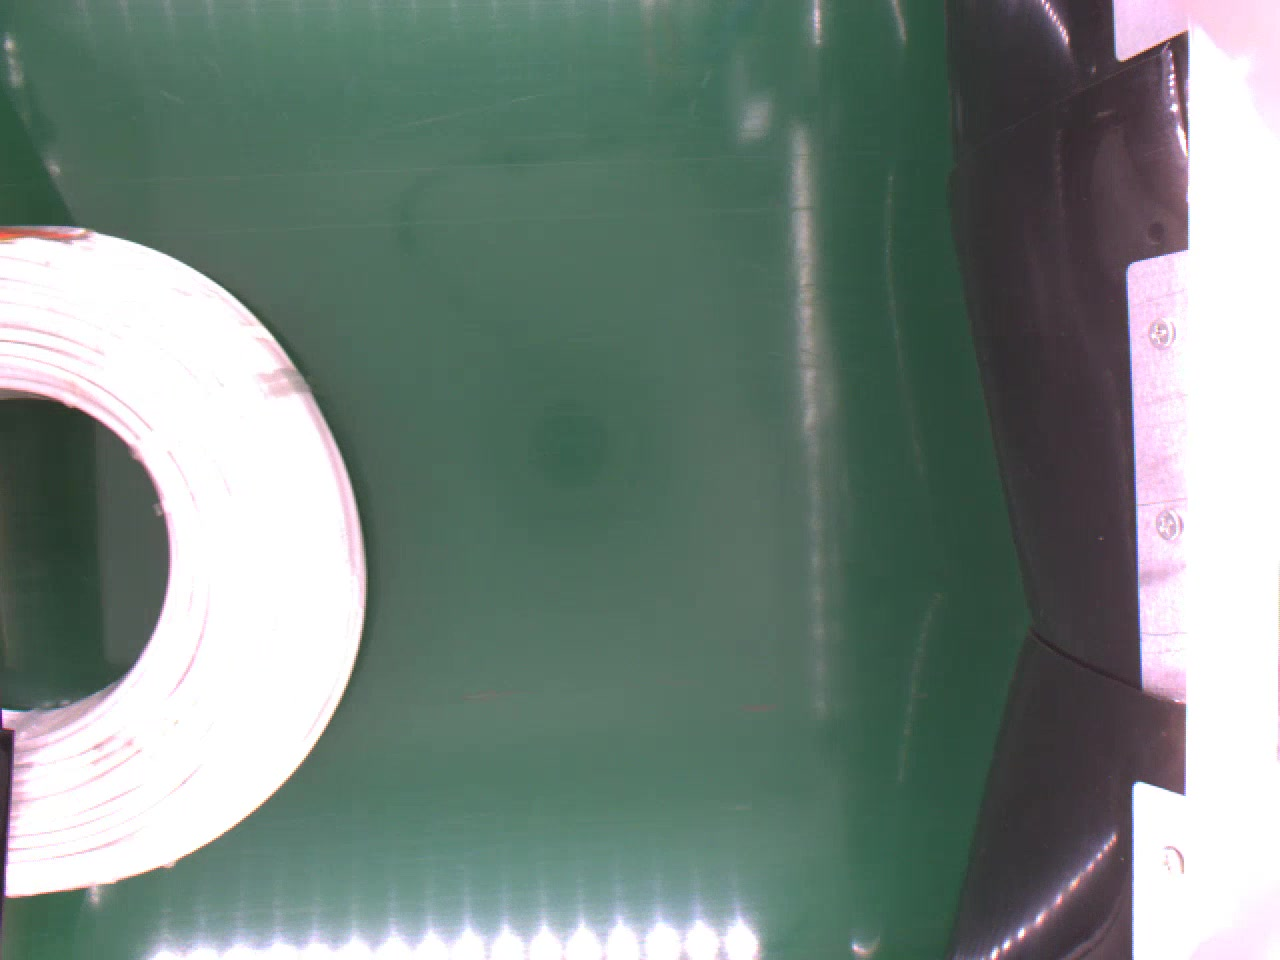white: (0, 224, 369, 897)
